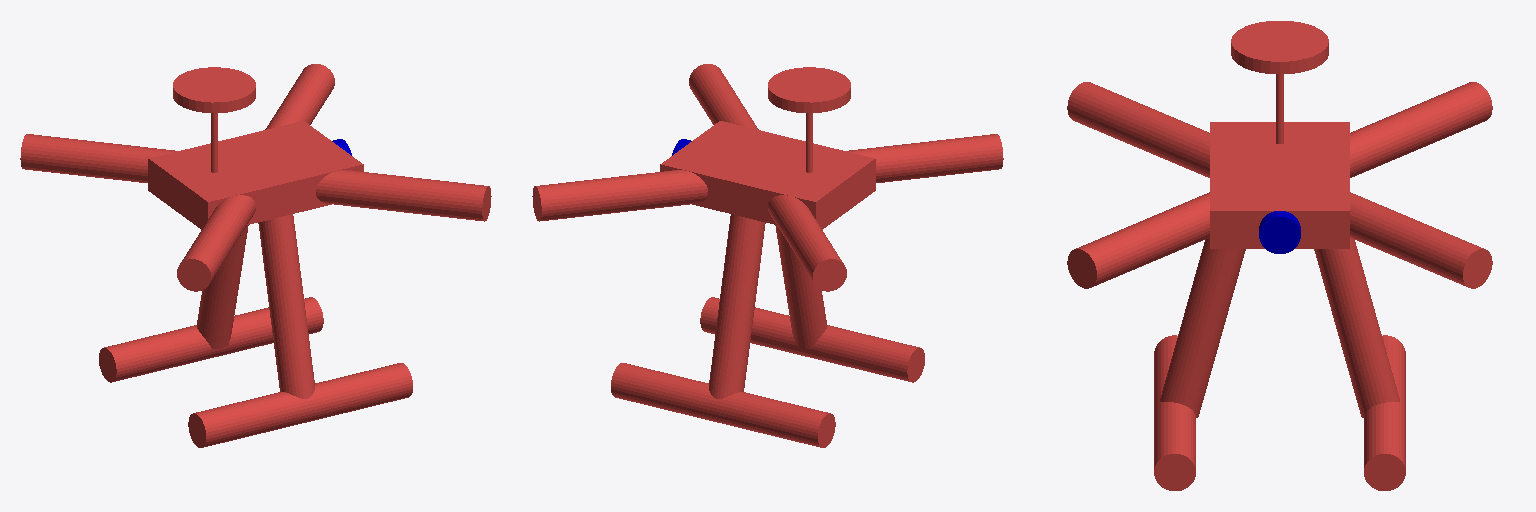
robot.urdf — aircraft:
<?xml version="1.0"?>
<robot name="aircraft">

  <material name="blue">
    <color rgba="0 0 0.8 1"/>
  </material>

  <material name="char_red">
    <color rgba="0.85 0.325 0.31 1"/>
  </material>

  <link name="robot_link">
	<visual>
      <geometry>
        <box size="0.15 0.1 0.03"/>
		<!--<mesh filename="file://$(arg meshDirectory)part1.STL"/>-->
      </geometry>
	  <!--the original position, origin to the joint-->
      <origin rpy="0 0 0 " xyz="0 0 0"/>
	  <material name="char_red"/>
    </visual>
  </link>

  <joint name="x1_joint" type="fixed">
    <parent link="robot_link"/>
    <child link="x1"/>
  </joint>

  <!--the object-->
  <link name="x1">
    <visual>
      <geometry>
        <cylinder length="0.4" radius="0.015"/>
      </geometry>
	  <!--the original position, origin to the joint-->
      <origin rpy="0 1.57075 0.7854 " xyz="0 0 0"/>
	  <material name="char_red"/>
    </visual>
  </link>

  <joint name="x2_joint" type="fixed">
    <parent link="robot_link"/>
    <child link="x2"/>
  </joint>

  <link name="x2">
    <visual>
      <geometry>
        <cylinder length="0.4" radius="0.015"/>
      </geometry>
	  <!--the original position, origin to the joint-->
      <origin rpy="0 1.57075 -0.7854 " xyz="0 0 0"/>
	  <material name="char_red"/>
    </visual>
  </link>

  <joint name="gps_rod_joint" type="fixed">
    <parent link="robot_link"/>
    <child link="gps_rod"/>
  </joint>

  <link name="gps_rod">
    <visual>
      <geometry>
        <cylinder length="0.08" radius="0.003"/>
      </geometry>
	  <!--the original position, origin to the joint-->
      <origin rpy="0 0 0" xyz="-0.04 0 0.05"/>
	  <material name="char_red"/>
    </visual>
  </link>

  <joint name="gps_joint" type="fixed">
    <parent link="robot_link"/>
    <child link="gps"/>
  </joint>

  <link name="gps">
    <visual>
      <geometry>
        <cylinder length="0.01" radius="0.035"/>
      </geometry>
	  <!--the original position, origin to the joint-->
      <origin rpy="0 0 0" xyz="-0.04 0 0.09"/>
	  <material name="char_red"/>
    </visual>
  </link>

  <joint name="camera_joint" type="fixed">
    <parent link="robot_link"/>
    <child link="camera"/>
  </joint>

  <link name="camera">
    <visual>
      <geometry>
        <cylinder length="0.01" radius="0.015"/>
      </geometry>
	  <!--the original position, origin to the joint-->
      <origin rpy="0 1.57075 0" xyz="0.08 0 0"/>
	  <material name="blue"/>
    </visual>
  </link>

  <joint name="left_leg_joint" type="fixed">
    <parent link="robot_link"/>
    <child link="left_leg"/>
	<origin rpy="0 0 0 " xyz="0 0.05 0"/>
  </joint>

  <link name="left_leg">
    <visual>
      <geometry>
        <cylinder length="0.18" radius="0.015"/>
      </geometry>
	  <!--the original position, origin to the joint-->
      <origin rpy="0.25 0 0" xyz="0 0 -0.09"/>
	  <material name="char_red"/>
    </visual>
  </link>

  <joint name="left_stand_joint" type="fixed">
    <parent link="left_leg"/>
    <child link="left_stand"/>
	<origin rpy="0.25 0 0 " xyz="0 0.025 -0.18"/>
  </joint>

  <link name="left_stand">
    <visual>
      <geometry>
        <cylinder length="0.2" radius="0.015"/>
      </geometry>
	  <!--the original position, origin to the joint-->
      <origin rpy="0 1.57075 0" xyz="0 0 0"/>
	  <material name="char_red"/>
    </visual>
  </link>

  <joint name="right_leg_joint" type="fixed">
    <parent link="robot_link"/>
    <child link="right_leg"/>
	<origin rpy="0 0 0 " xyz="0 -0.05 0"/>
  </joint>

  <link name="right_leg">
    <visual>
      <geometry>
        <cylinder length="0.18" radius="0.015"/>
      </geometry>
	  <!--the original position, origin to the joint-->
      <origin rpy="-0.25 0 0" xyz="0 0 -0.09"/>
	  <material name="char_red"/>
    </visual>
  </link>

  <joint name="right_stand_joint" type="fixed">
    <parent link="right_leg"/>
    <child link="right_stand"/>
	<origin rpy="-0.25 0 0 " xyz="0 -0.025 -0.18"/>
  </joint>

  <link name="right_stand">
    <visual>
      <geometry>
        <cylinder length="0.2" radius="0.015"/>
      </geometry>
	  <!--the original position, origin to the joint-->
      <origin rpy="0 1.57075 0" xyz="0 0 0"/>
	  <material name="char_red"/>
    </visual>
  </link>

</robot>

--- What the picture shows (computed from the rendered views, not written in the file) ---
3 views of the same robot in one strip: view 1: azimuth 30°, elevation 25°; view 2: azimuth 150°, elevation 25°; view 3: azimuth 270°, elevation 25° (orthographic).
Robot: aircraft — 10 links, 9 joints (9 fixed); root link robot_link; default pose: every joint at zero.
Visible links, largest first — view 1: robot_link, x2, right_stand, right_leg, x1, left_stand, gps, left_leg; view 2: robot_link, x1, left_stand, left_leg, x2, right_stand, gps, right_leg; view 3: robot_link, x1, x2, left_leg, right_leg, gps, left_stand, right_stand, camera, gps_rod.
Link boxes in pixels (box(x1,y1,x2,y2)): robot_link: box(148, 121, 363, 229); x2: box(20, 134, 491, 221); right_stand: box(188, 363, 412, 447); right_leg: box(258, 214, 314, 398); x1: box(177, 64, 334, 291); left_stand: box(99, 297, 323, 382); gps: box(173, 67, 255, 112); left_leg: box(197, 225, 248, 348); robot_link: box(660, 121, 875, 229); x1: box(532, 134, 1003, 221); left_stand: box(611, 363, 835, 447); left_leg: box(709, 214, 765, 398); x2: box(689, 64, 846, 291); right_stand: box(700, 297, 924, 382); gps: box(768, 67, 850, 112); right_leg: box(775, 225, 826, 348); robot_link: box(1210, 122, 1349, 248); x1: box(1067, 82, 1492, 288); x2: box(1067, 82, 1492, 288); left_leg: box(1314, 238, 1399, 417); right_leg: box(1160, 238, 1245, 417); gps: box(1231, 21, 1328, 74); left_stand: box(1364, 335, 1405, 490); right_stand: box(1154, 335, 1195, 490); camera: box(1259, 211, 1300, 253); gps_rod: box(1276, 74, 1283, 143).
Size in the robot's own frame: 0.3041 by 0.3041 by 0.29 metres.
Geometry: primitives only (box / cylinder / sphere), no mesh files.